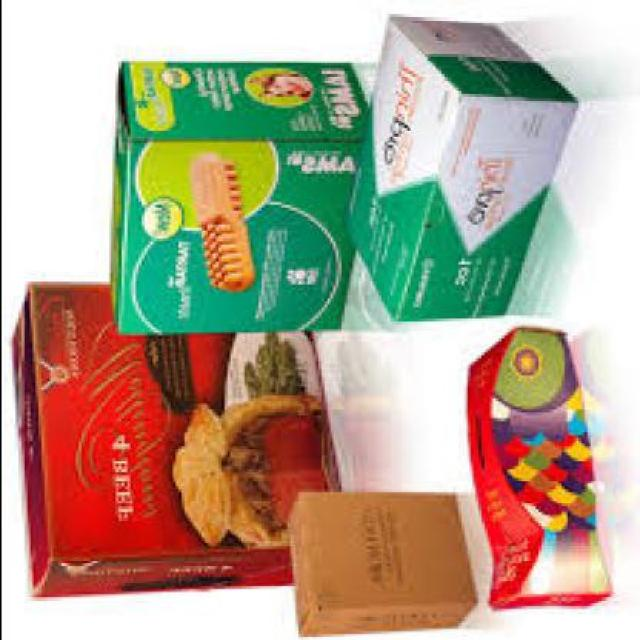CARDBOARD: (5, 278, 341, 590), (343, 14, 574, 315), (108, 59, 366, 327), (463, 327, 611, 608), (289, 489, 474, 631)
